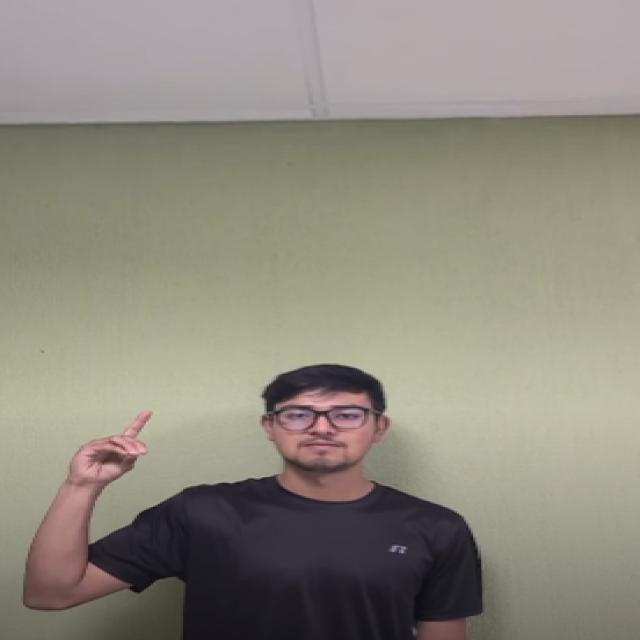D: (17, 400, 180, 505)
